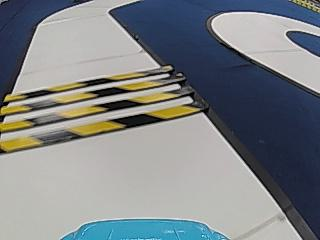bump: (0, 62, 204, 156)
